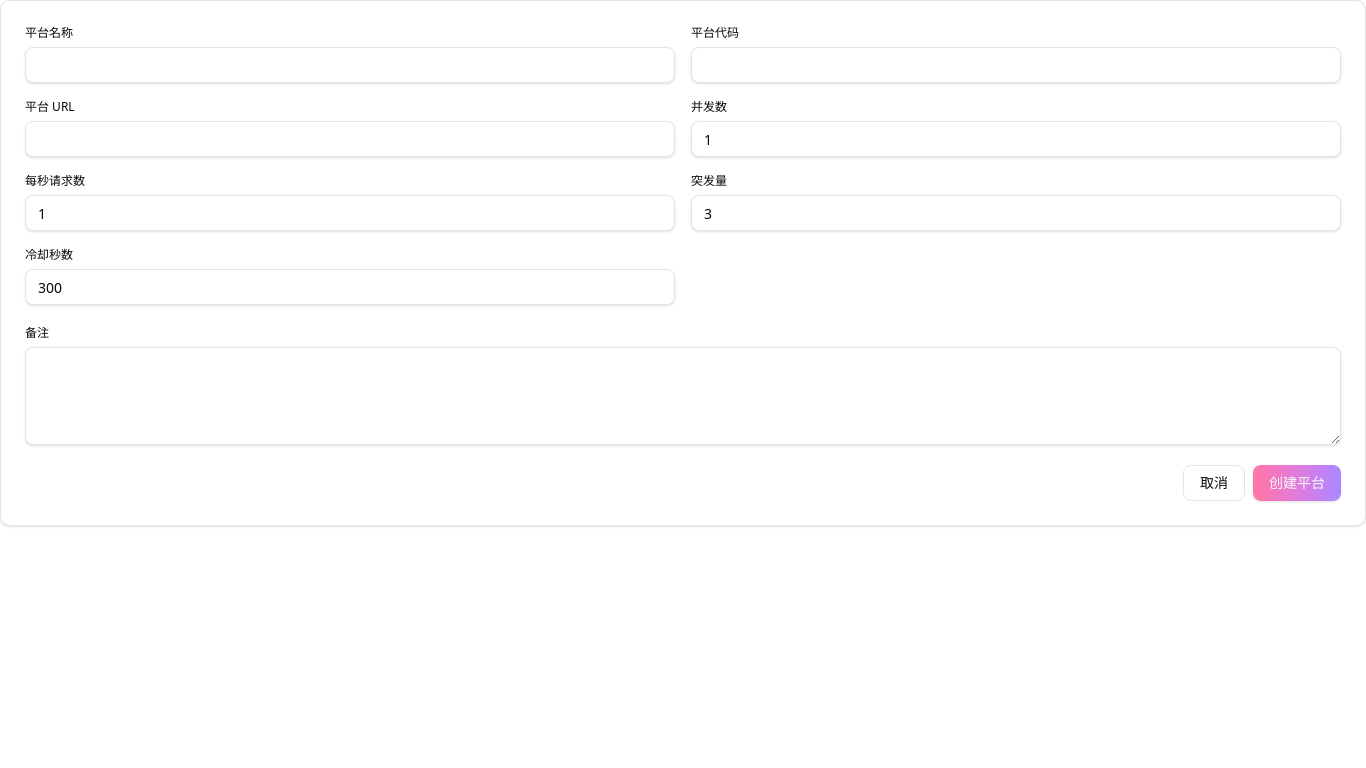
Test case: PlatformForm › 字段错误映射到表单并保留输入
In the field labelled "平台名称": (350, 65) left=25, top=47, right=675, bottom=83, type "保留我"
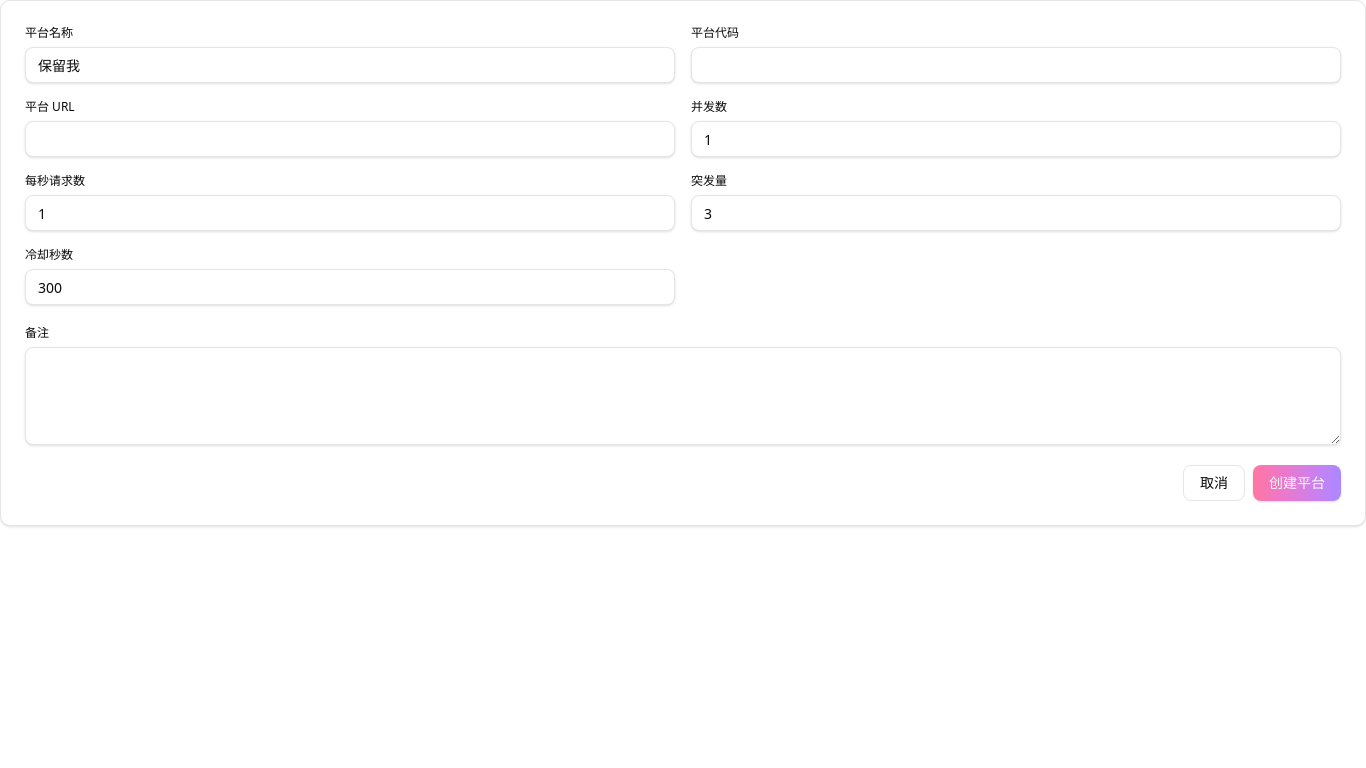
In the field labelled "平台代码": (1016, 65) left=691, top=47, right=1341, bottom=83, type "code"
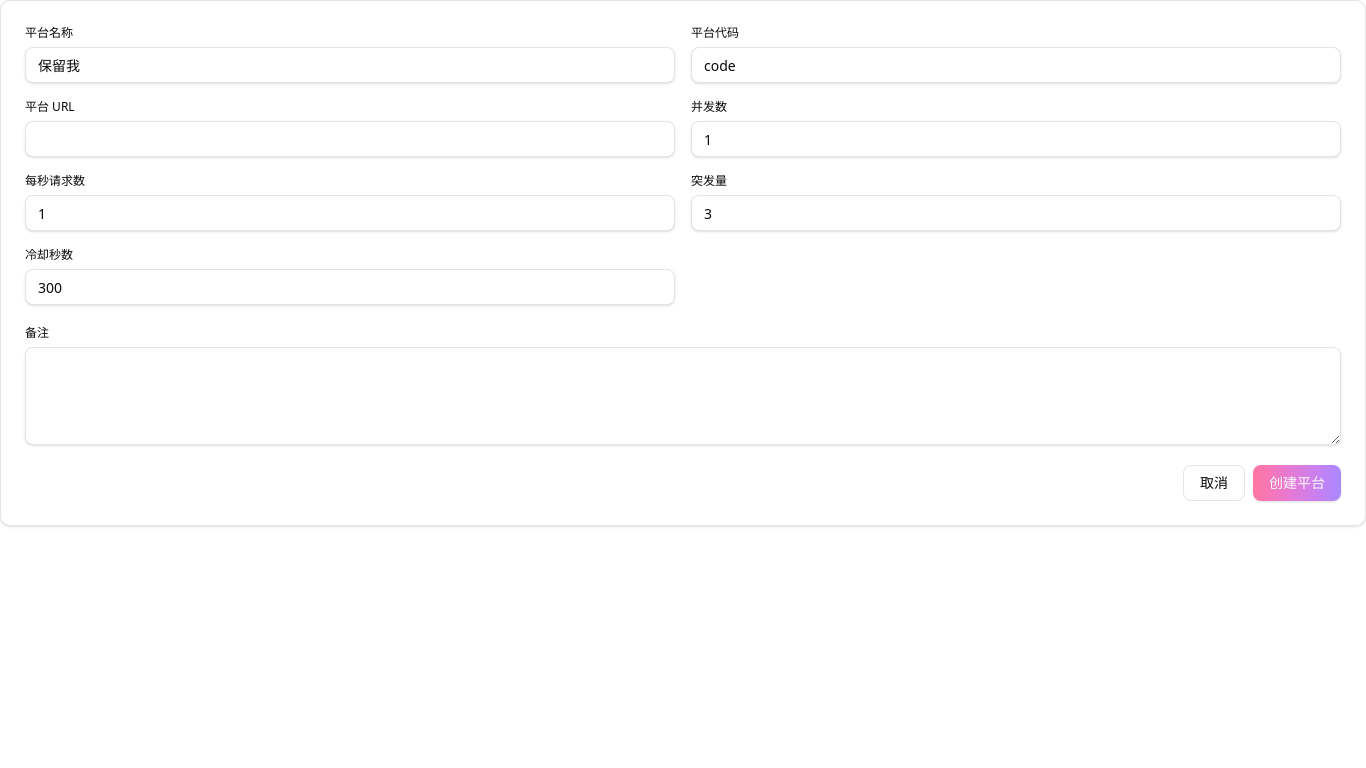
Submit the form "创建平台", box left=25, top=25, right=1341, bottom=501
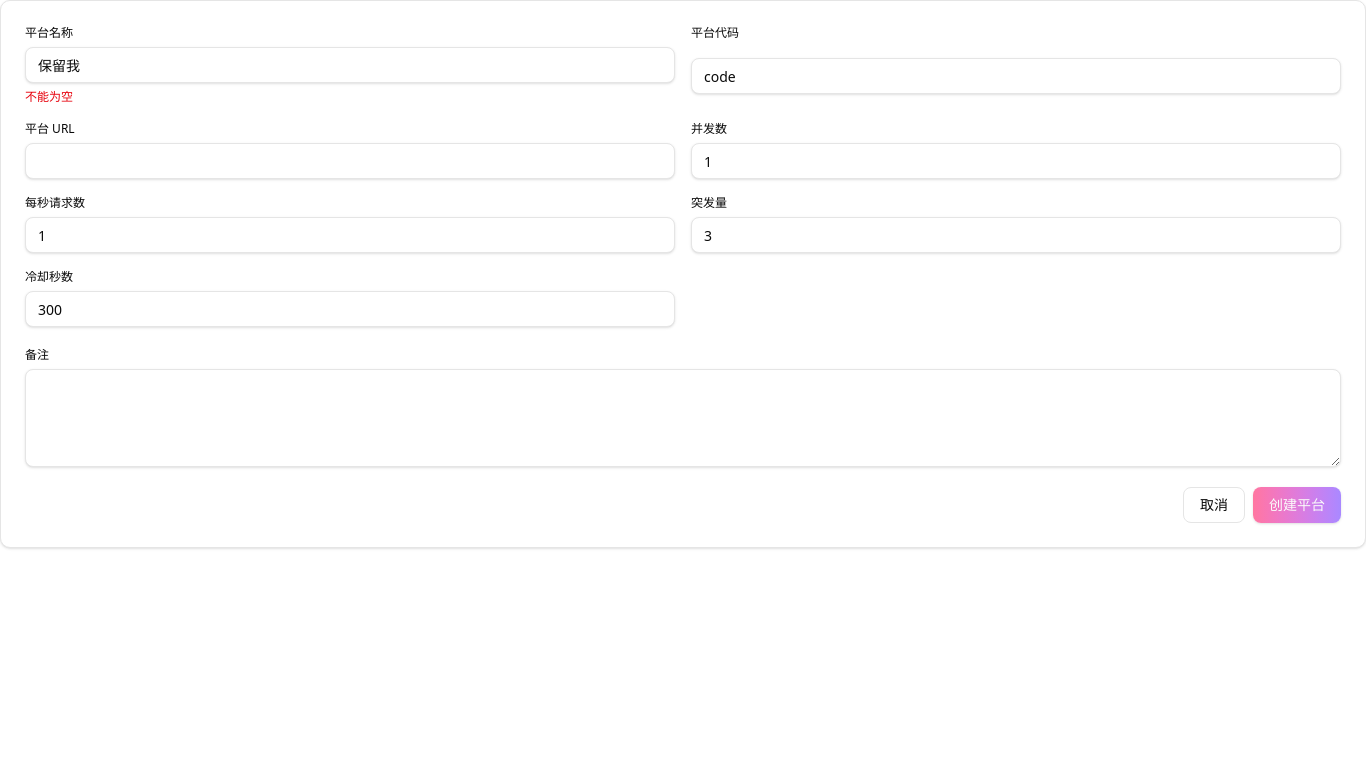
expect the text "不能为空" is shown: met, box left=25, top=88, right=73, bottom=105
